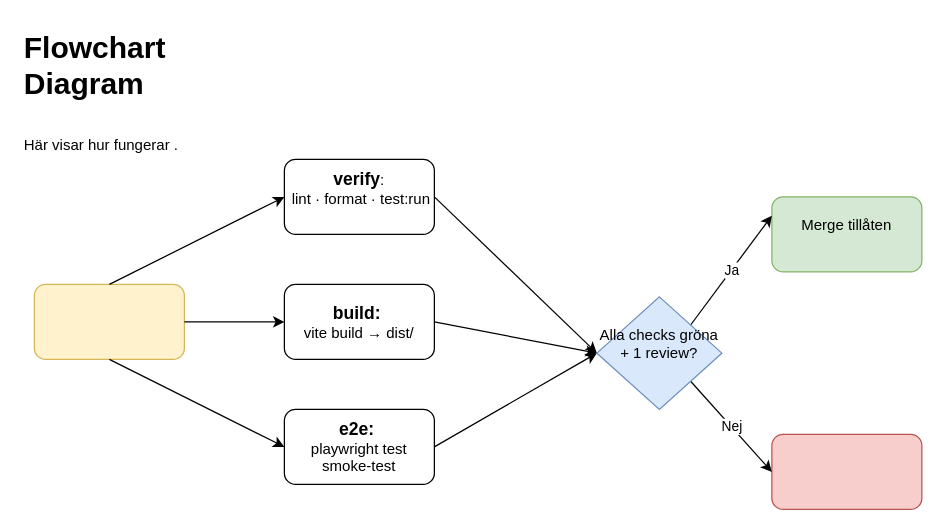
The diagram is 944 pixels wide and 531 high, and some of its shapes have lost their labels. Each missing label, with the centre of its shape:
"Merge-knappen låst" belongs at [846,471].
"PR: Pull request mot main" belongs at [108,321].
